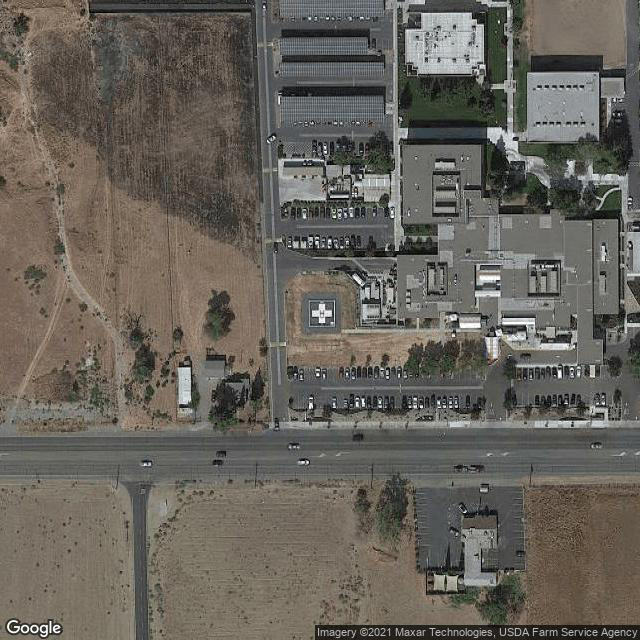Helipad: (307, 297, 338, 328)
